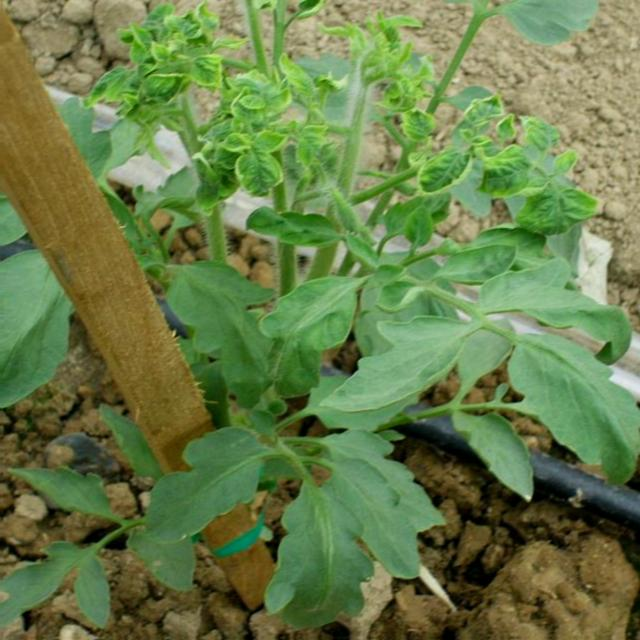Tomato leaf: (508, 332, 639, 497), (335, 295, 504, 408), (157, 251, 279, 398), (260, 477, 373, 634), (141, 427, 265, 550), (320, 457, 434, 580), (0, 247, 66, 409), (448, 406, 536, 500), (6, 459, 126, 523), (499, 0, 601, 52), (429, 241, 517, 291), (401, 0, 495, 24)
